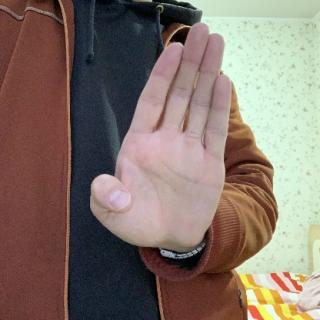KAAF: (84, 20, 234, 264)
